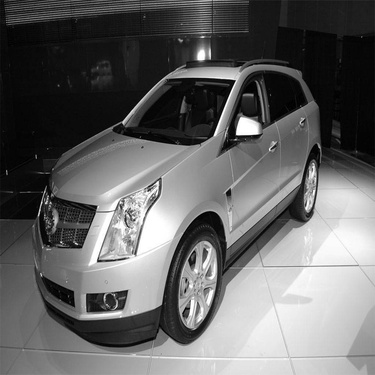car: (24, 50, 331, 354)
